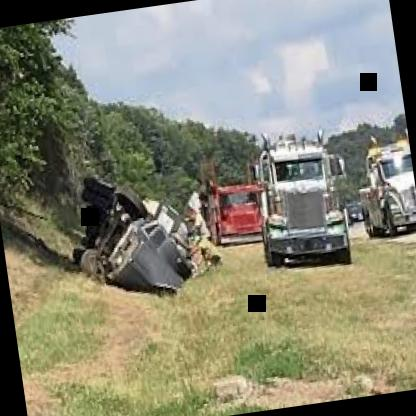accident: (68, 161, 226, 306)
